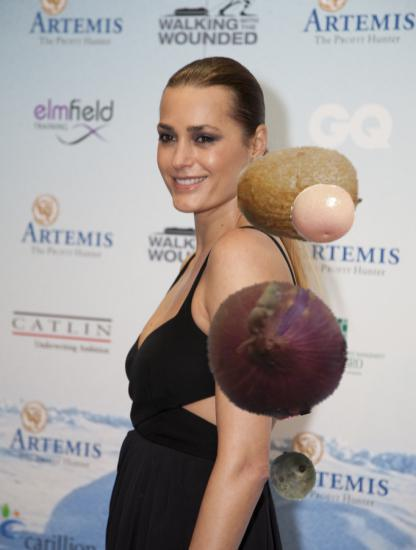Beetroot: (268, 449, 320, 501)
Grapefruit: (291, 182, 356, 247)
Kiwi: (237, 132, 363, 258)
Onion: (205, 278, 348, 421)
